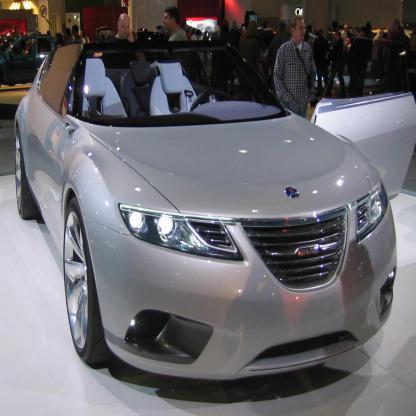Car: (14, 41, 415, 381), (0, 32, 55, 88)
